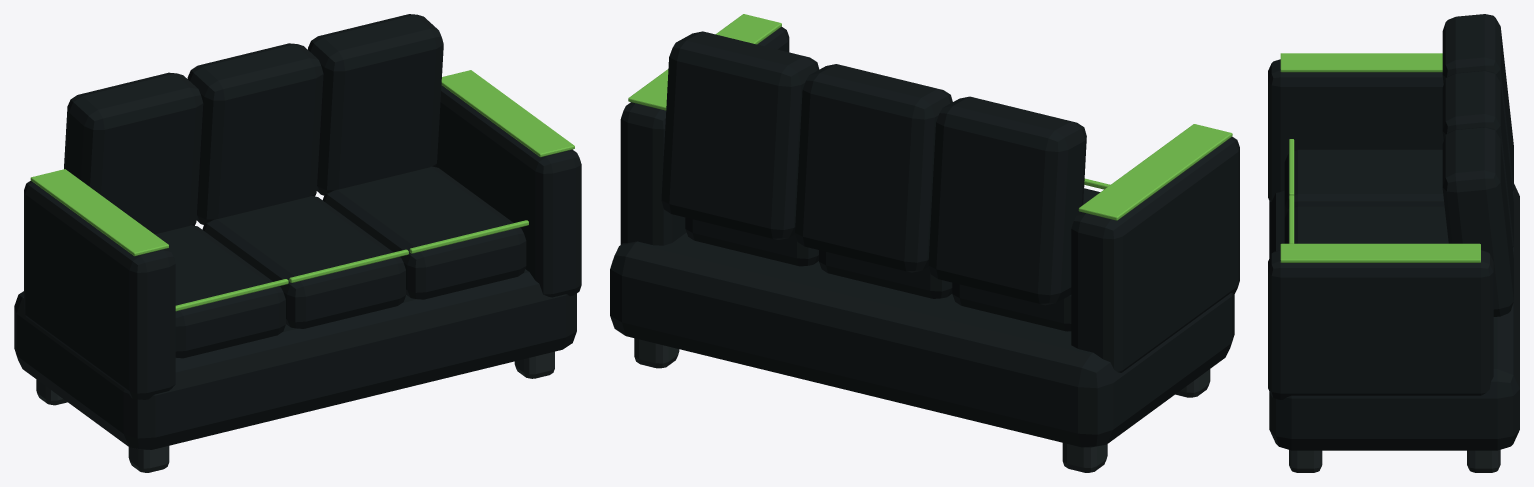
The model's file is better.glb.
3 views of the same model, side by side, from view 1: azimuth 30°, elevation 25°; view 2: azimuth 150°, elevation 25°; view 3: azimuth 270°, elevation 25° (orthographic). The views are drawn at different scales.
Parts seen in each view (by area): view 1: Armrest, Green edge, Sofa foot; view 2: Armrest, Green edge, Sofa foot; view 3: Armrest, Green edge, Sofa foot.
Boxes of the visible parts, x1=… form: Armrest: x1=14, y1=14, x2=581, y2=449; Green edge: x1=30, y1=70, x2=574, y2=311; Sofa foot: x1=36, y1=351, x2=554, y2=472; Armrest: x1=610, y1=26, x2=1239, y2=447; Green edge: x1=628, y1=14, x2=1232, y2=220; Sofa foot: x1=634, y1=338, x2=1210, y2=472; Armrest: x1=1268, y1=14, x2=1519, y2=450; Green edge: x1=1280, y1=53, x2=1480, y2=262; Sofa foot: x1=1289, y1=450, x2=1500, y2=472.
Bounding box in the file's own units: 1 × 0.6299 × 0.5028.
